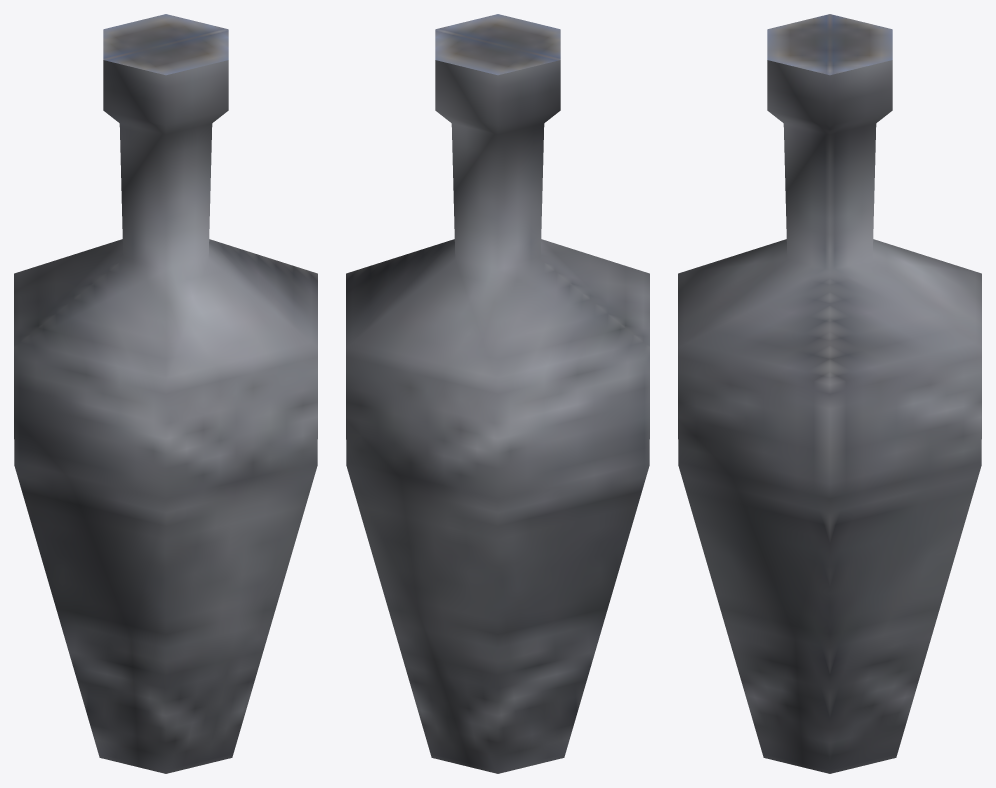
Rendered from all_mine_prop_12.FBX.
3 views of the same model, side by side, from view 1: azimuth 30°, elevation 25°; view 2: azimuth 150°, elevation 25°; view 3: azimuth 270°, elevation 25° (orthographic).
Visible parts, largest first — view 1: all_mine_prop_12; view 2: all_mine_prop_12; view 3: all_mine_prop_12.
Part boxes in pixels (box(x1,y1,x2,y2)): all_mine_prop_12: box(14, 14, 317, 773); all_mine_prop_12: box(346, 14, 649, 773); all_mine_prop_12: box(678, 14, 981, 773).
Size of the model in its own units: 10.92 by 23.93 by 9.46.
